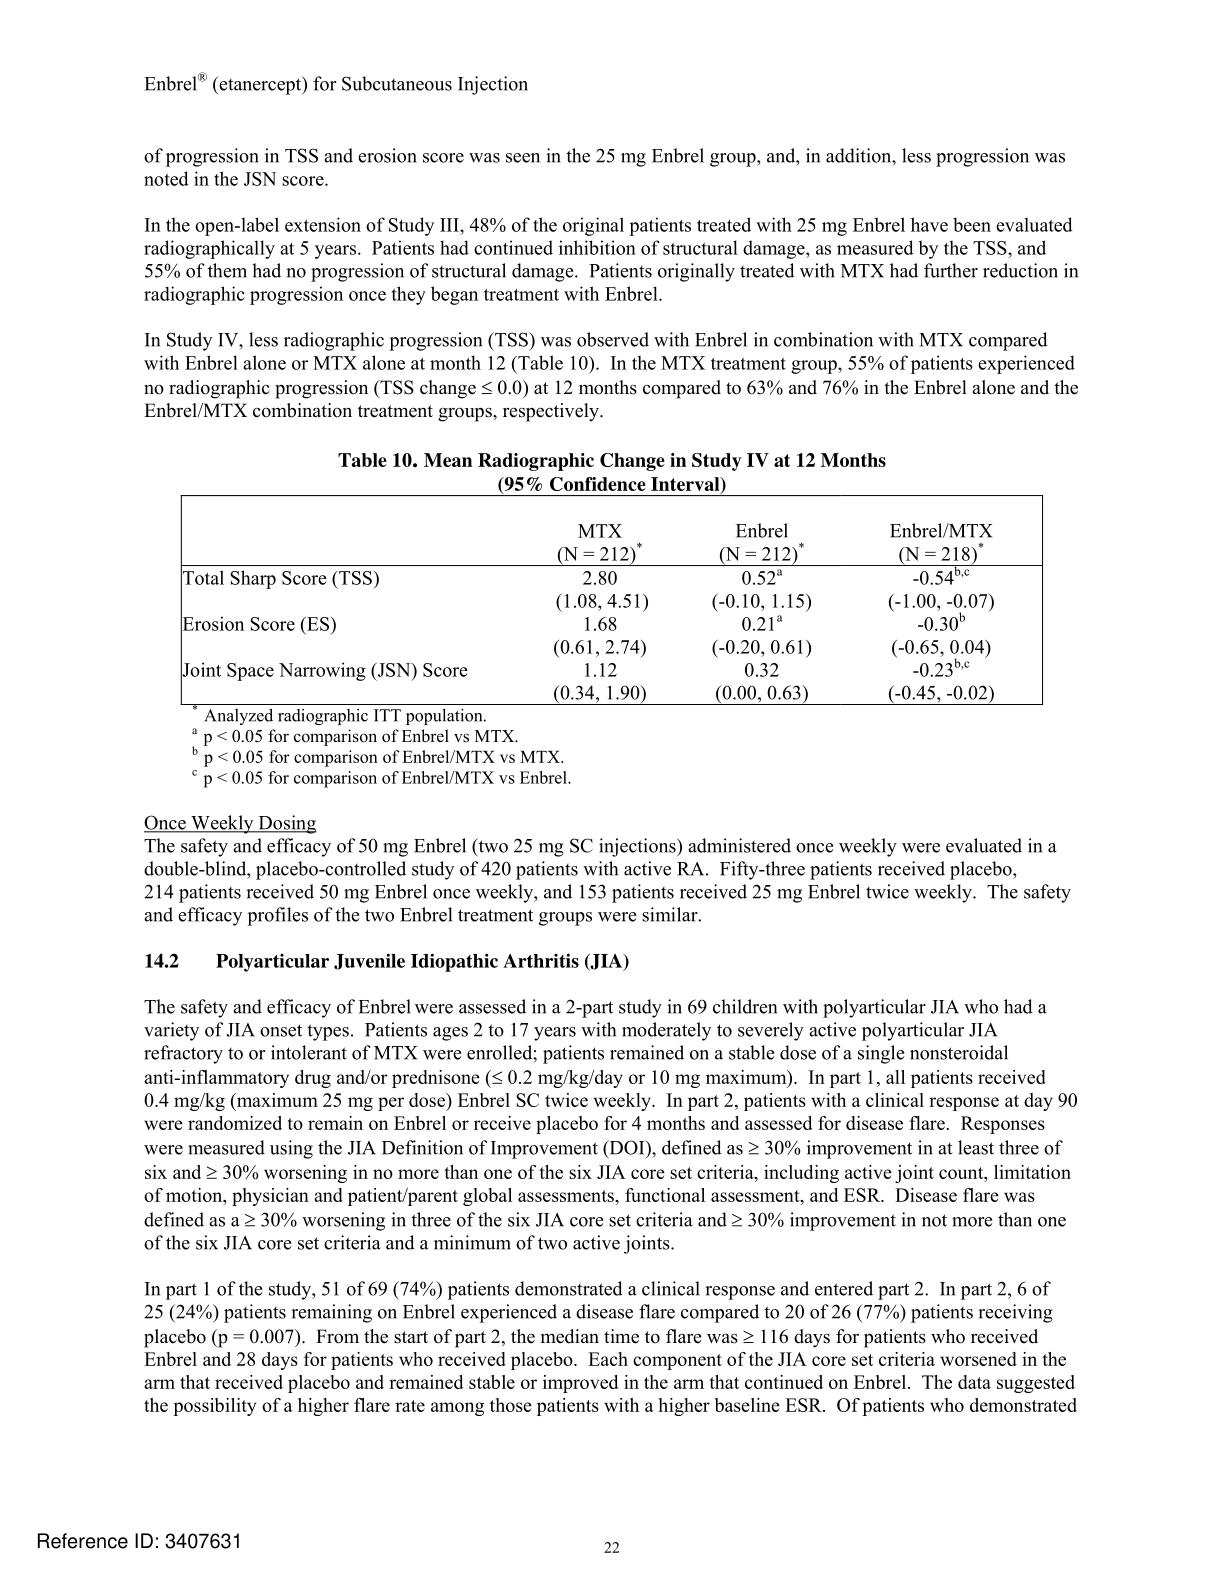partial_lined: (177, 492, 1047, 708)
